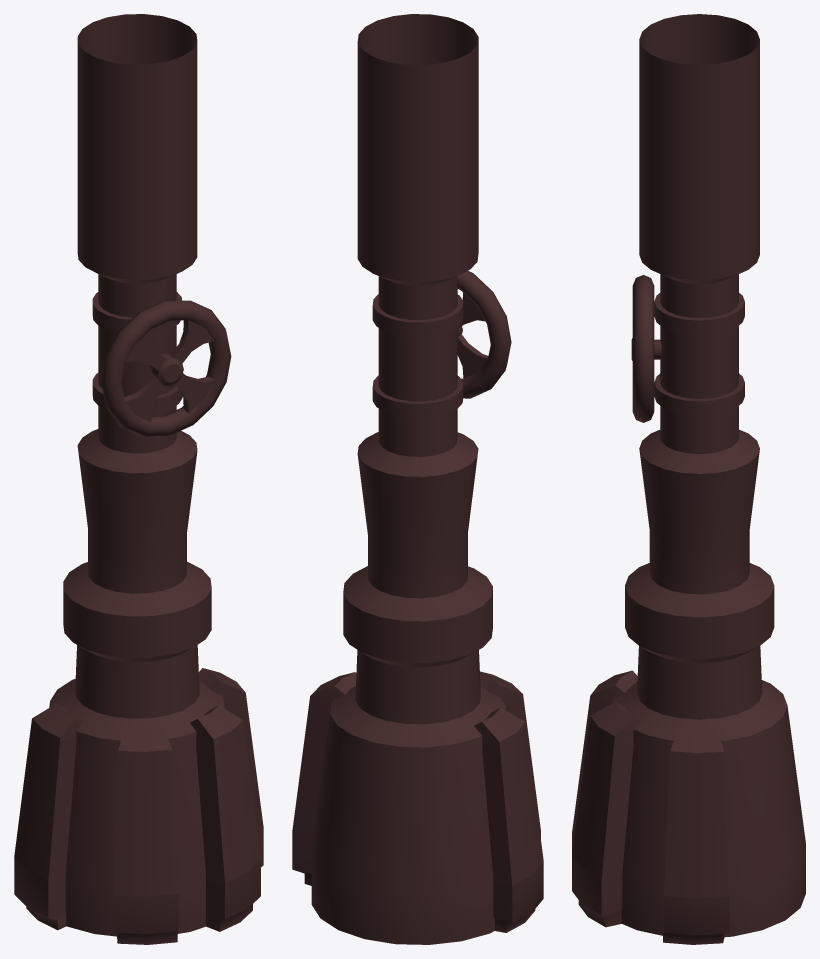
File: Anger_Prop_Divider_A.fbx
3 renders of one model, left to right at view 1: azimuth 30°, elevation 25°; view 2: azimuth 150°, elevation 25°; view 3: azimuth 270°, elevation 25°, orthographic.
Parts seen in each view (by area): view 1: Divider_A; view 2: Divider_A; view 3: Divider_A.
Part boxes in pixels (x1,y1,x2,y2): Divider_A: (14, 14, 263, 944); Divider_A: (292, 14, 543, 944); Divider_A: (572, 14, 805, 944).
Size of the model in its own units: 182 by 656 by 163.
